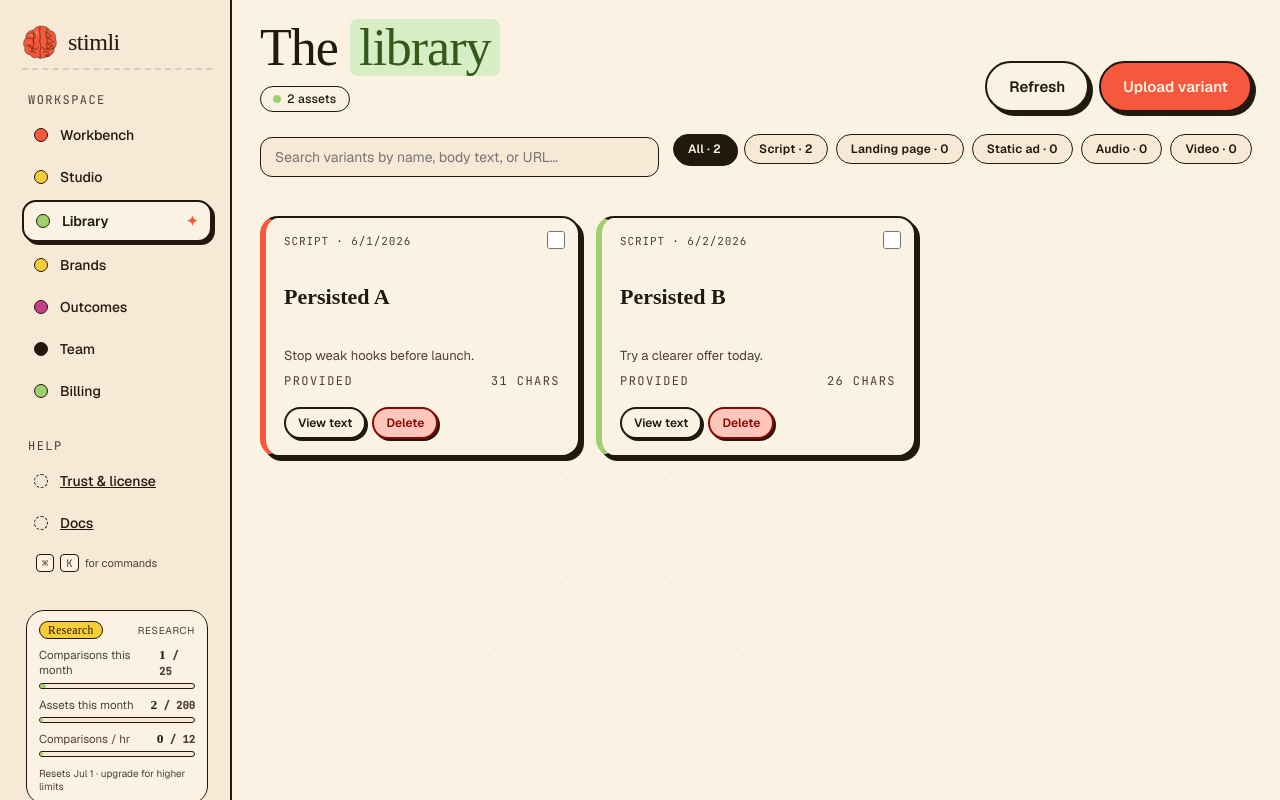
Test: AppShell routing and shell flows › keeps failed bulk deletes visible and selected
Expected: the heading "Persisted A" is shown, [284,284,390,309]
Expected: the heading "Persisted B" is shown, [620,284,726,309]
Click the label named "Select Persisted A" at (556, 240), box [547,231,565,249]
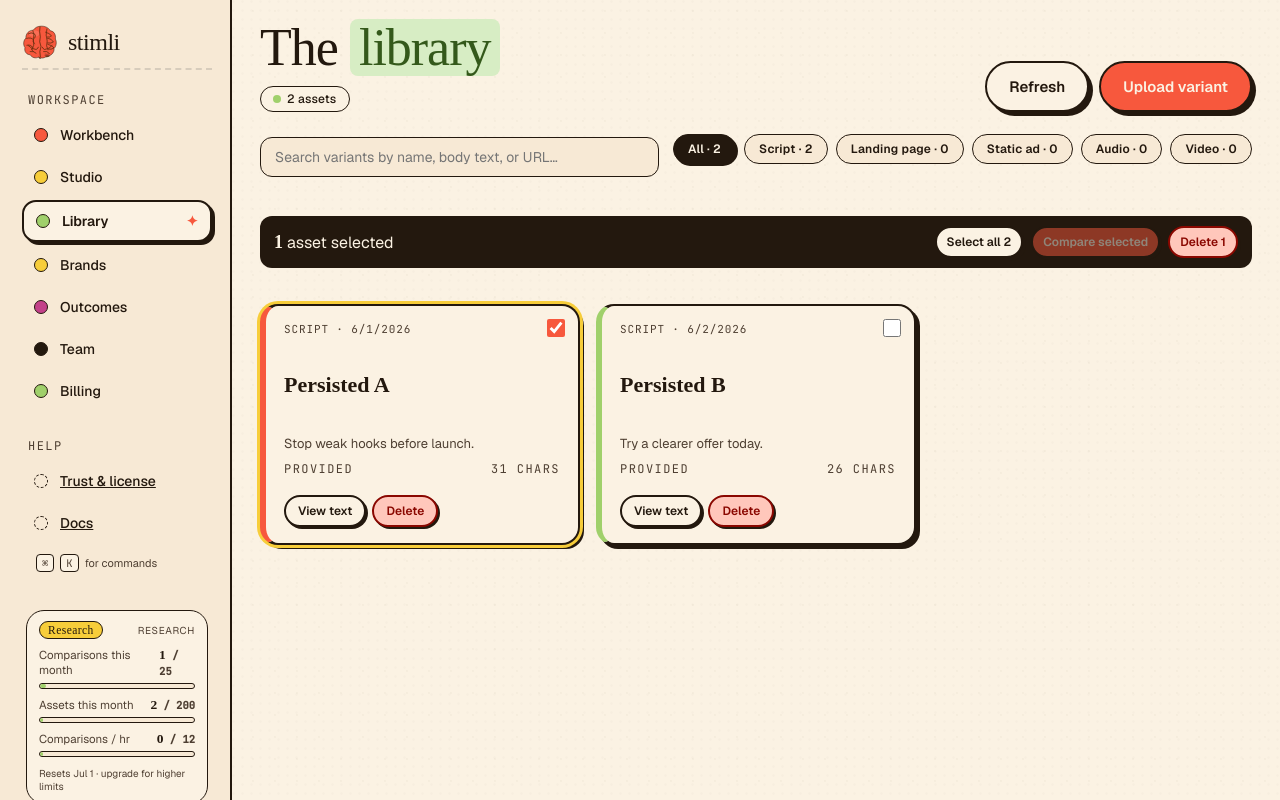
Click the label named "Select Persisted B" at (892, 328), box [883,319,901,337]
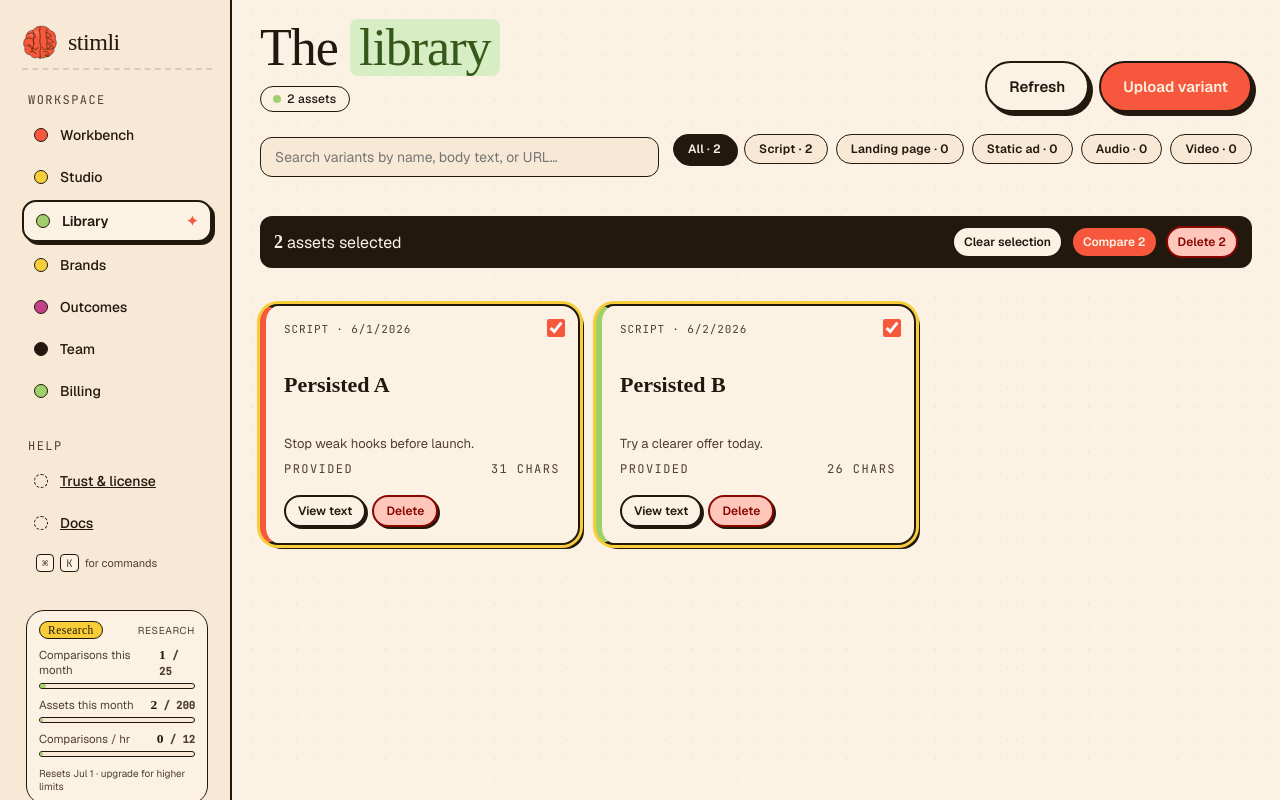
Click the button "Delete 2" at (1202, 242), box [1166,226,1238,258]
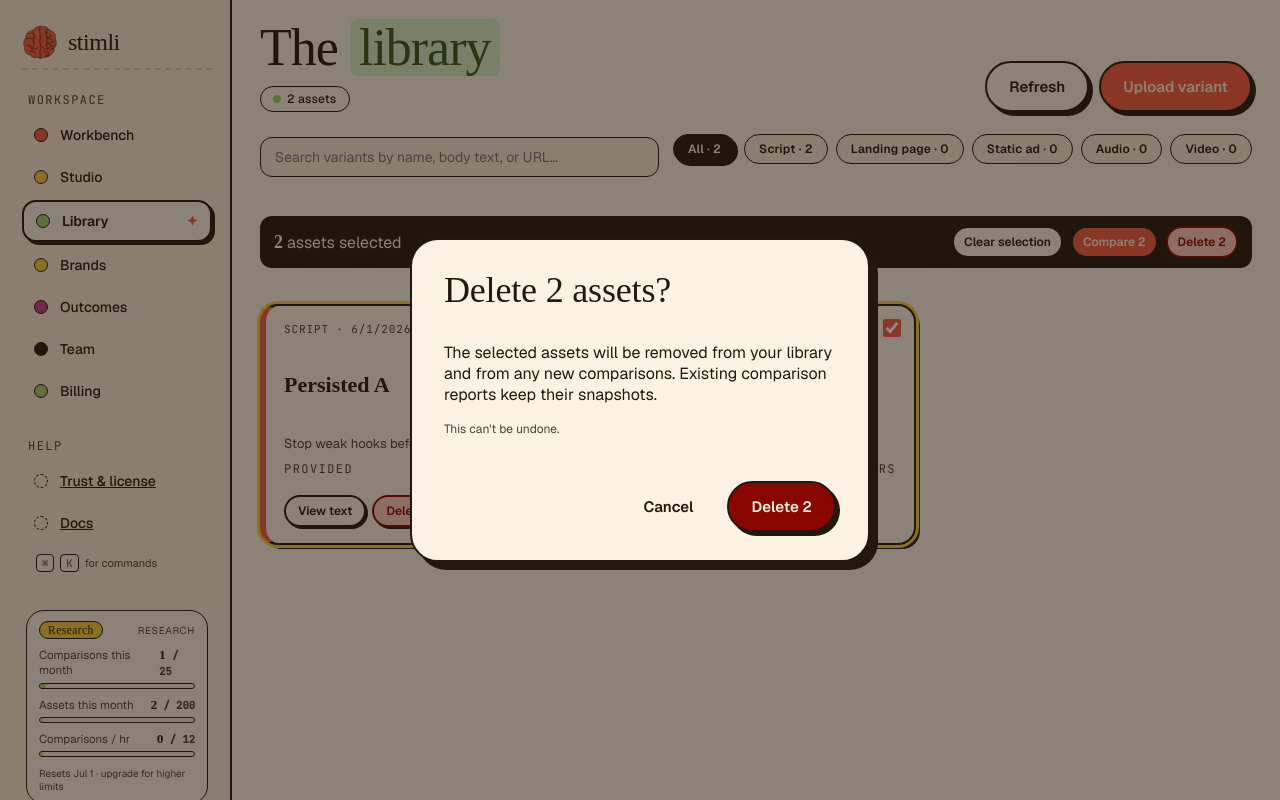
Click the button "Delete 2" at (782, 506), box [727,481,836,532]
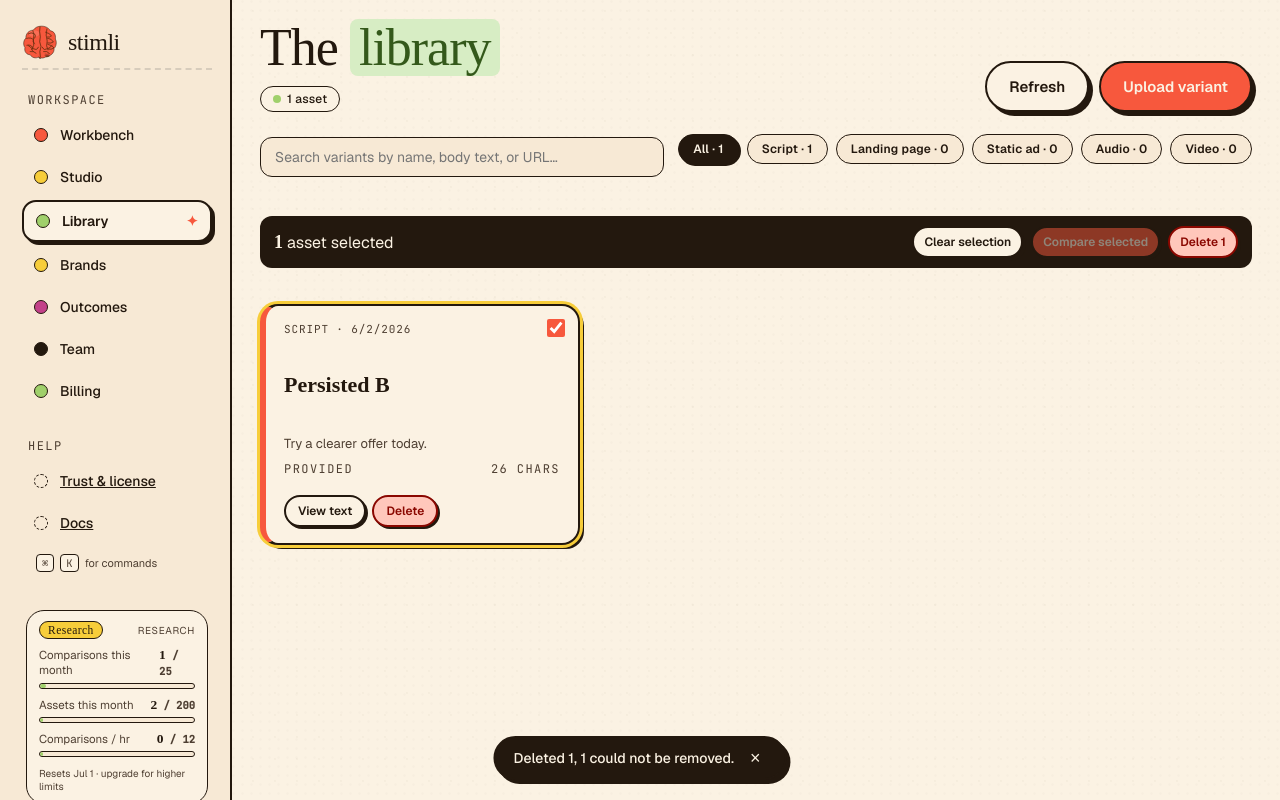
Result: the text "Deleted 1, 1 could not be removed." is shown at [514,749,734,767]
Result: the heading "Persisted A" is gone
Result: the element named "bulk actions" reads "1 asset selected Clear selection Compare selected Delete 1" at [260,216,1252,268]
